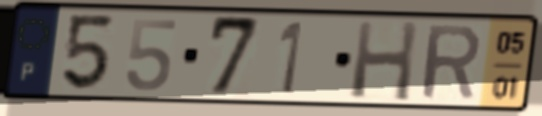1: (276, 19, 306, 98)
5: (61, 11, 119, 95), (123, 16, 180, 94)
7: (206, 12, 263, 100)
H: (347, 18, 421, 104)
R: (418, 22, 483, 103)
